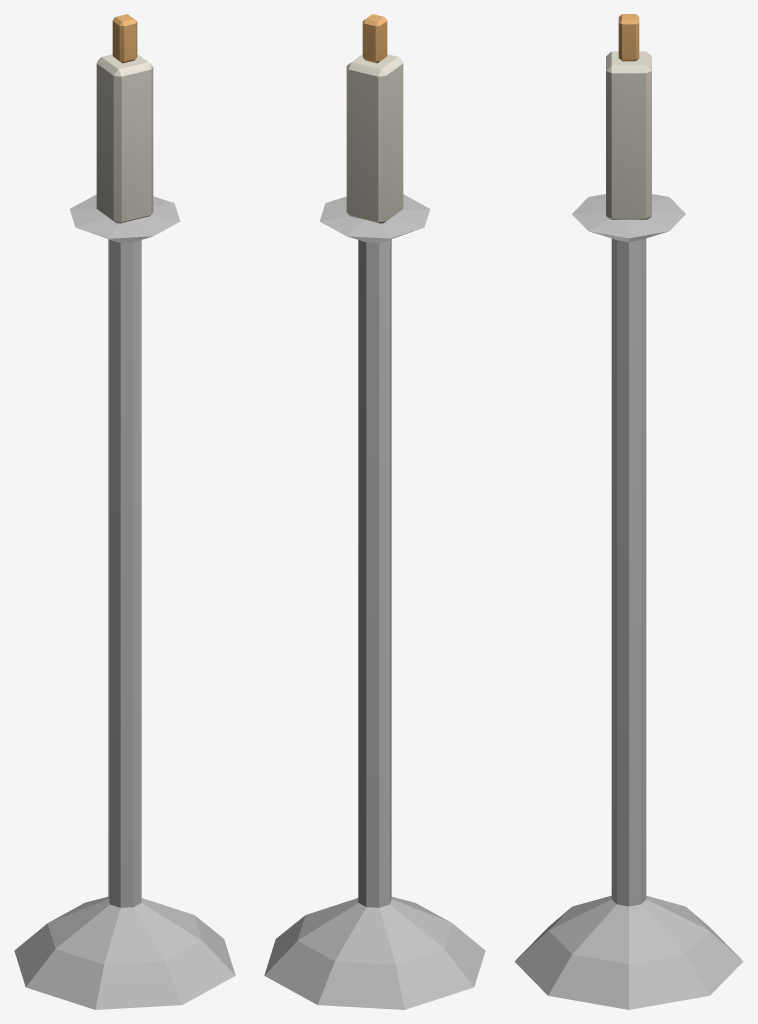
The model's file is candle_stand.glb.
3 renders of one model, left to right at view 1: azimuth 30°, elevation 25°; view 2: azimuth 150°, elevation 25°; view 3: azimuth 270°, elevation 25°, orthographic.
Parts seen in each view (by area): view 1: candle; view 2: candle; view 3: candle.
Boxes of the visible parts, x1,y1,x2,y2 form: candle: (14, 14, 235, 1009); candle: (264, 14, 485, 1009); candle: (514, 14, 743, 1009).
Bounding box in the file's own units: 0.4 × 1.82 × 0.4.
